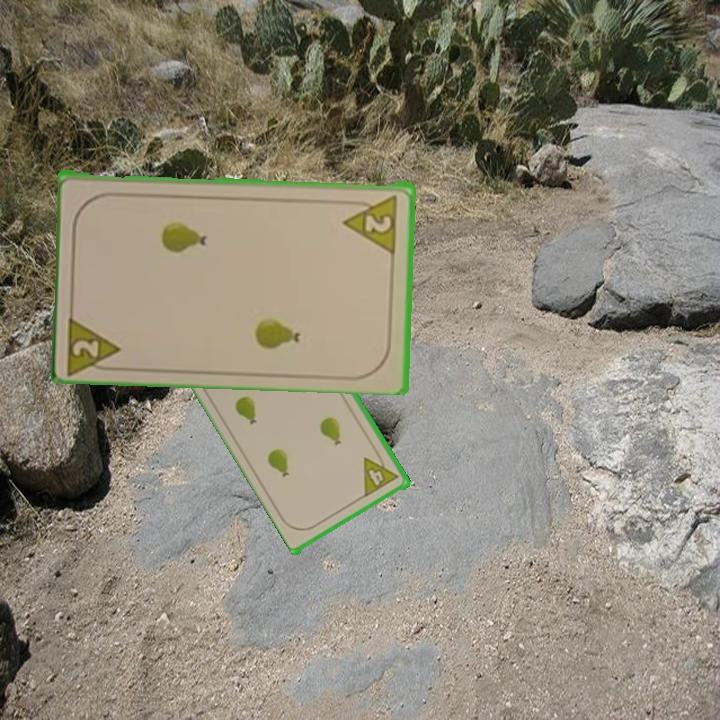2p: (63, 309, 125, 375), (341, 191, 401, 254)
4p: (360, 448, 402, 499)
